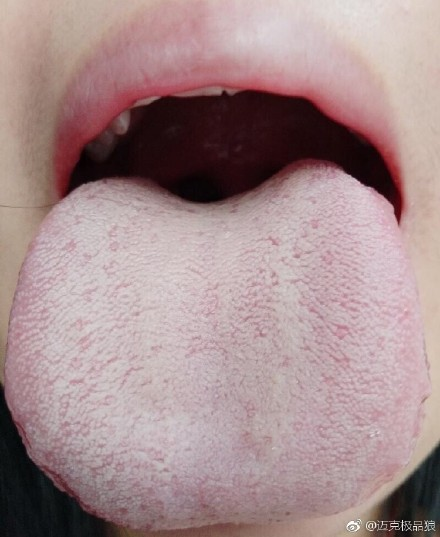baitaishe: (5, 158, 431, 530)
shenquao: (126, 159, 315, 228)
